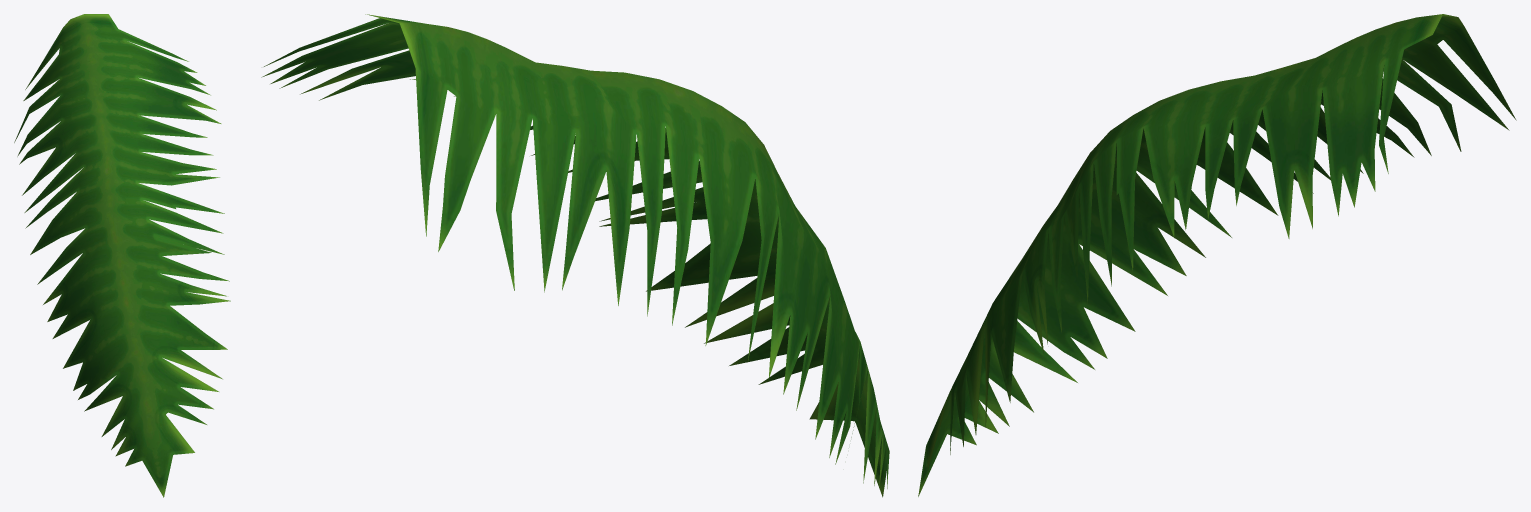
Rendered from palm_leaves_palm_leaves_0_002.obj.
The picture shows the model from 3 angles, left to right: view 1: azimuth 30°, elevation 25°; view 2: azimuth 150°, elevation 25°; view 3: azimuth 270°, elevation 25°; orthographic projection. The views are drawn at different scales.
Visible parts, largest first — view 1: palm_leaves_palm_leaves_0.002; view 2: palm_leaves_palm_leaves_0.002; view 3: palm_leaves_palm_leaves_0.002.
Boxes of the visible parts, bbox=[...] form: palm_leaves_palm_leaves_0.002: bbox=[14, 14, 230, 497]; palm_leaves_palm_leaves_0.002: bbox=[261, 14, 889, 497]; palm_leaves_palm_leaves_0.002: bbox=[918, 14, 1516, 496].
Size of the model in its own units: 14.83 by 22.87 by 22.57.
Materials: 1 (1 with a texture image).
